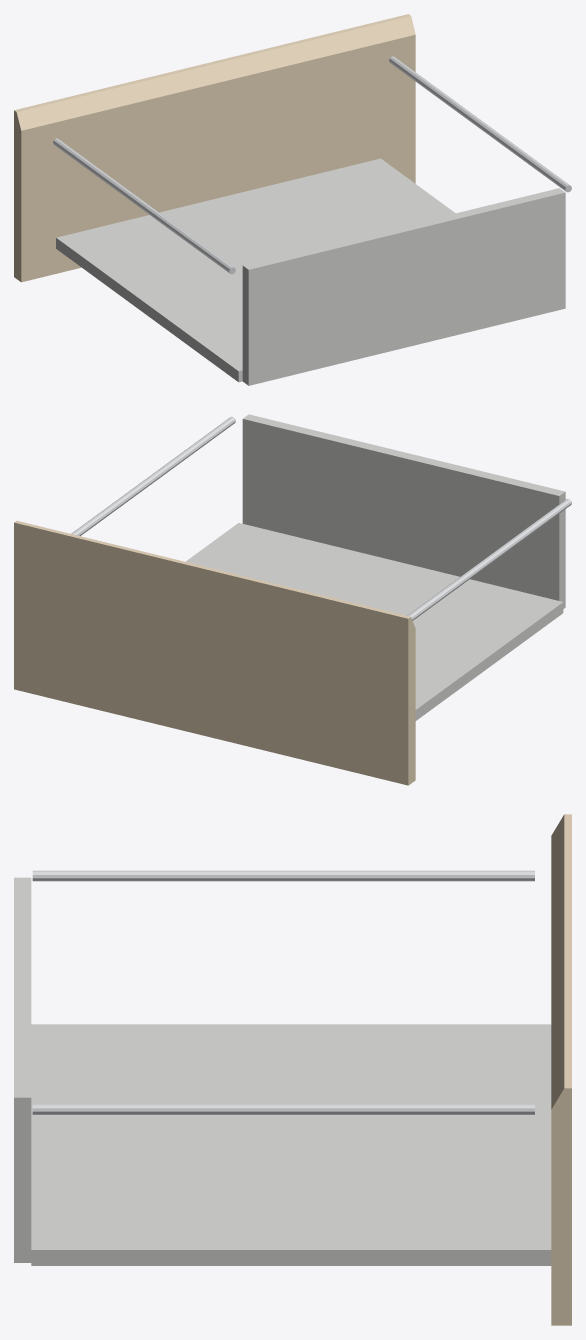
The model's file is skuff_OF3_1.glb.
3 views of the same model, one above another, from view 1: azimuth 30°, elevation 25°; view 2: azimuth 150°, elevation 25°; view 3: azimuth 270°, elevation 25° (orthographic). The views are drawn at different scales.
Size of the model in its own units: 594 by 240 by 511.
